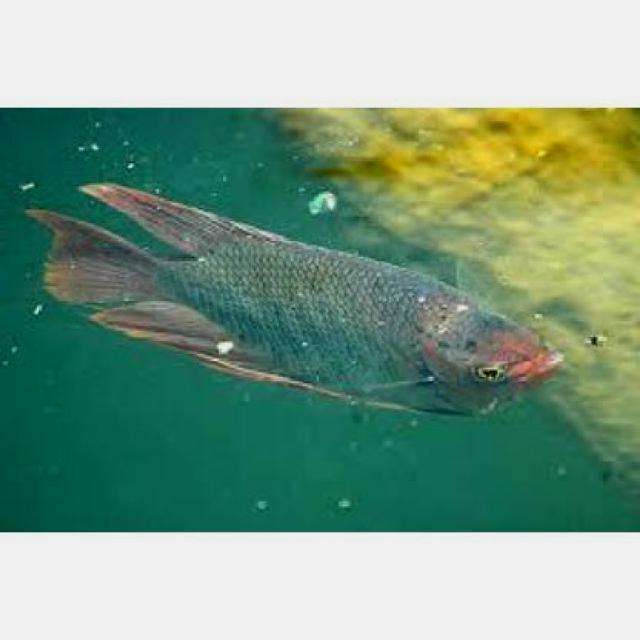gurame: (48, 185, 567, 406)
